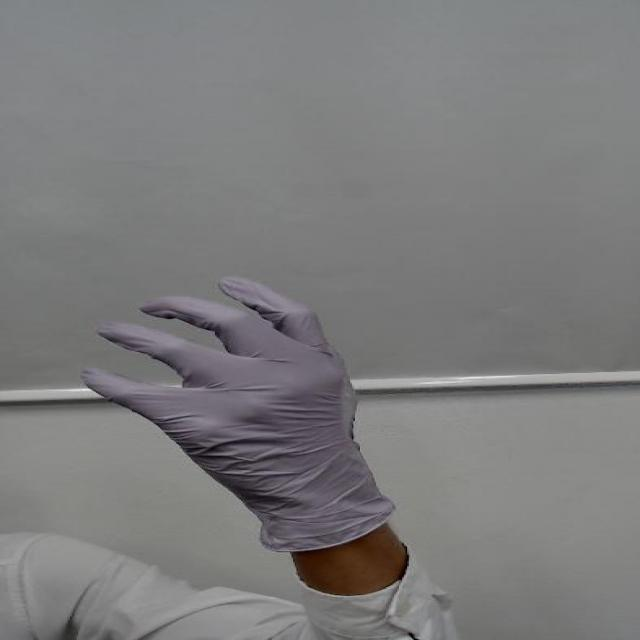with_gloves: (69, 264, 393, 473)
